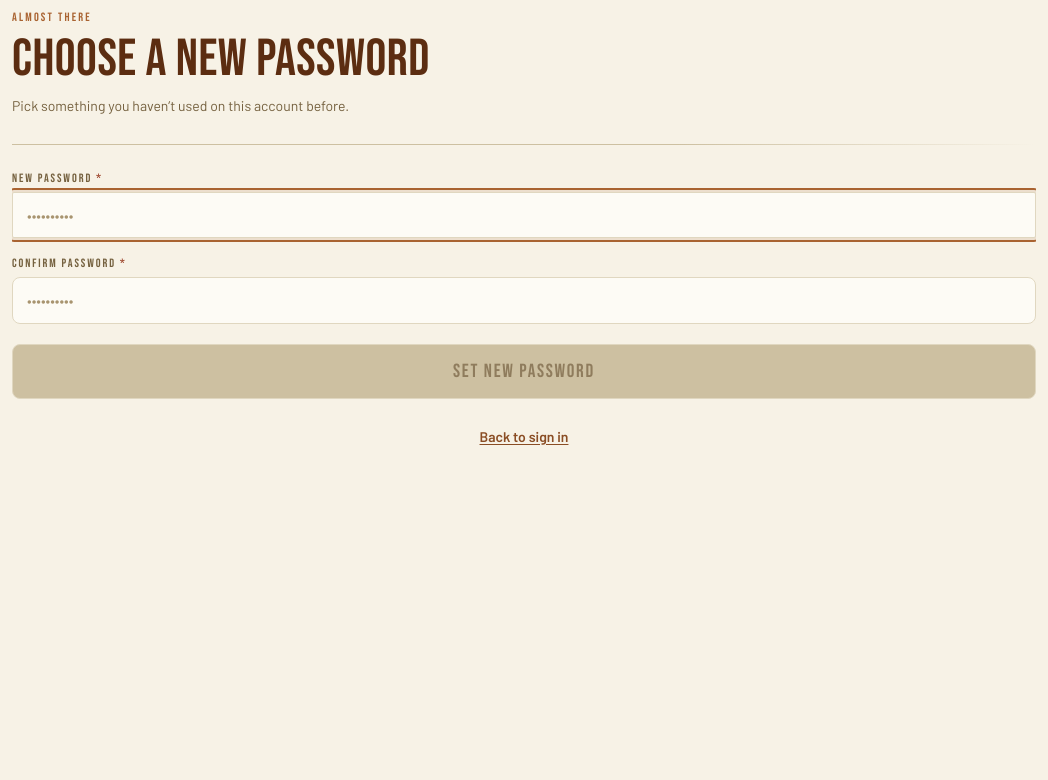
ResetPasswordForm › submits the new password and confirms when it is accepted
Type "Sherpa!Trail9" into the password field labelled "New password *" at x=524, y=215, box [12,192,1036,238]
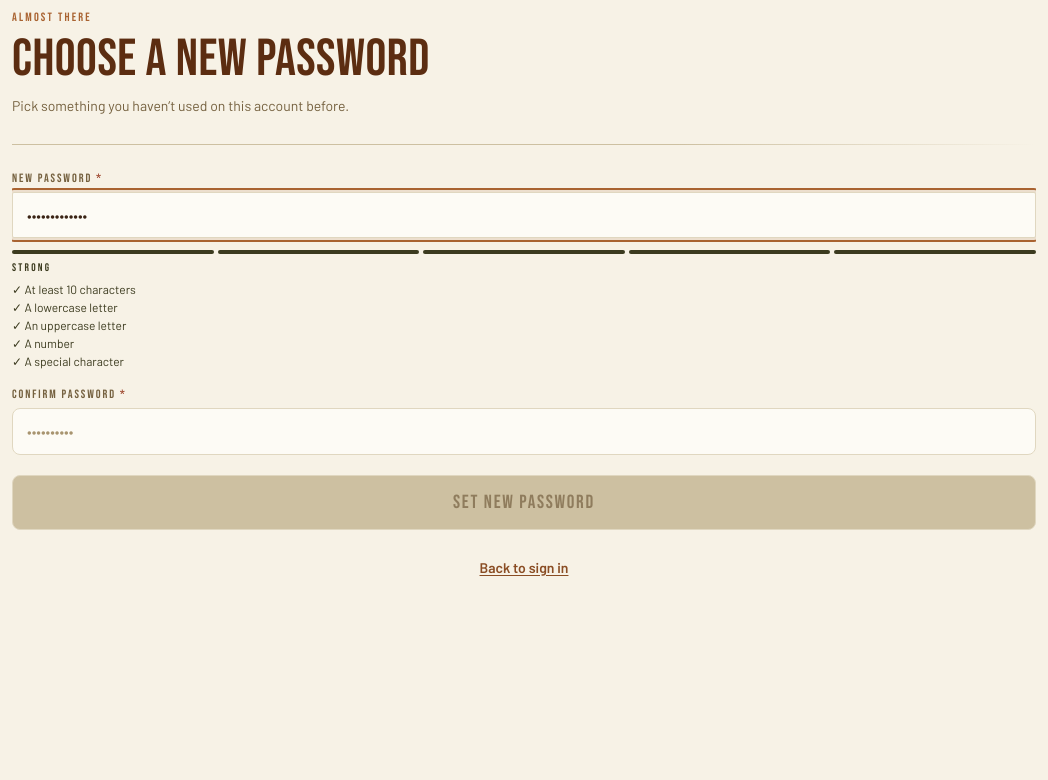
Type "Sherpa!Trail9" into the password field labelled "Confirm password *" at x=524, y=432, box [12,408,1036,455]
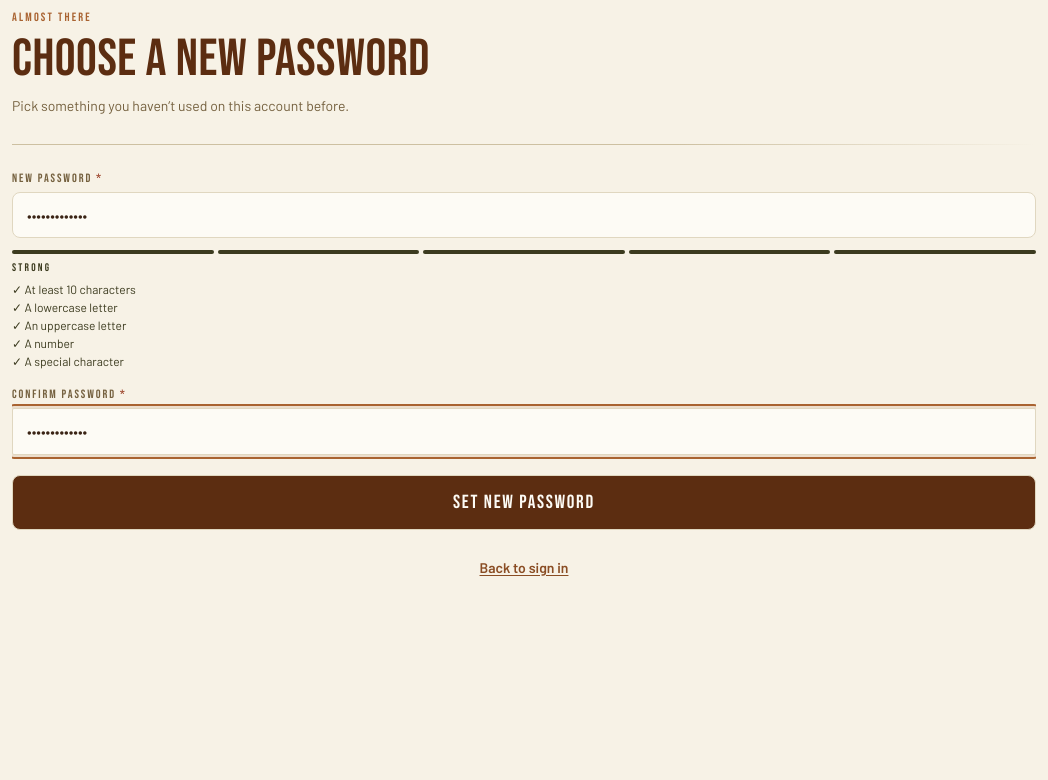
Click the button "Set new password" at x=524, y=502, box [12,475,1036,530]
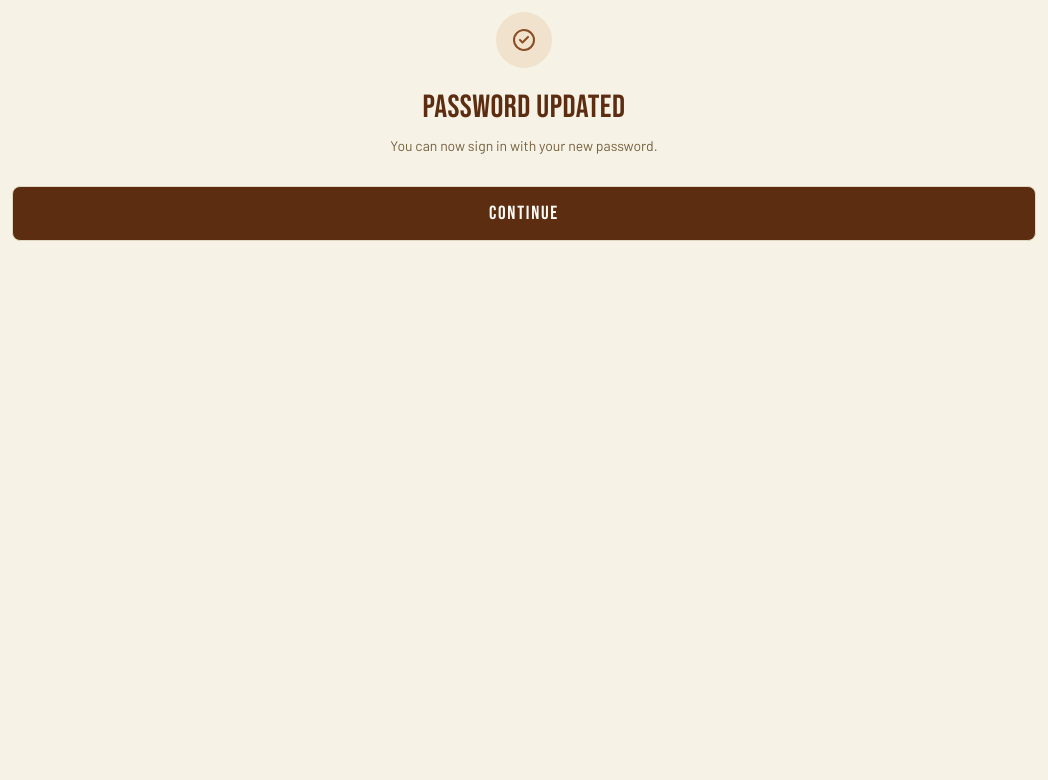
Check: the heading "Password updated" is shown, box [423,88,626,127]
